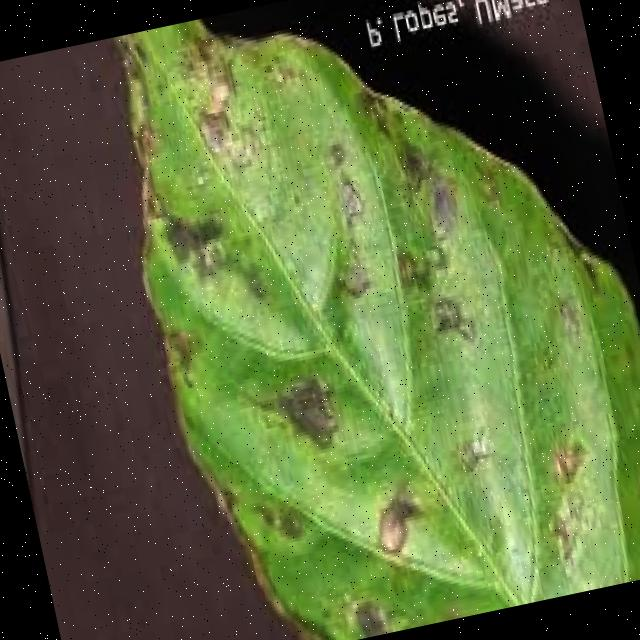leaf spot: (98, 6, 640, 640)
